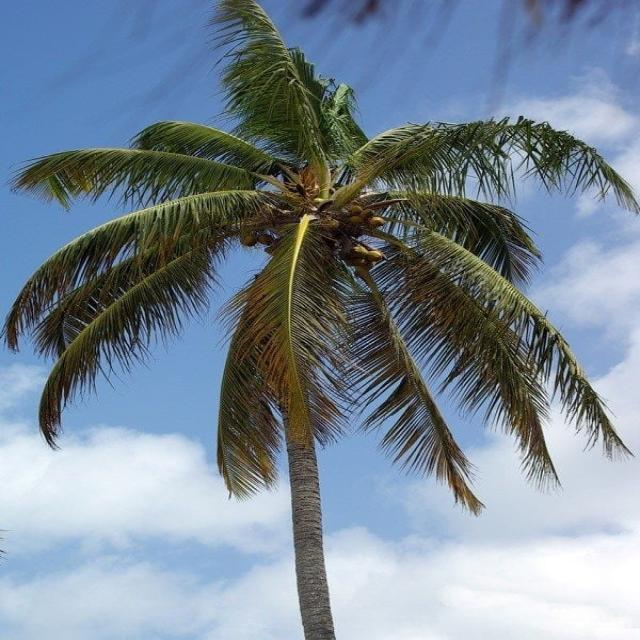Coconut-tree: (56, 57, 544, 601), (160, 104, 501, 414)
